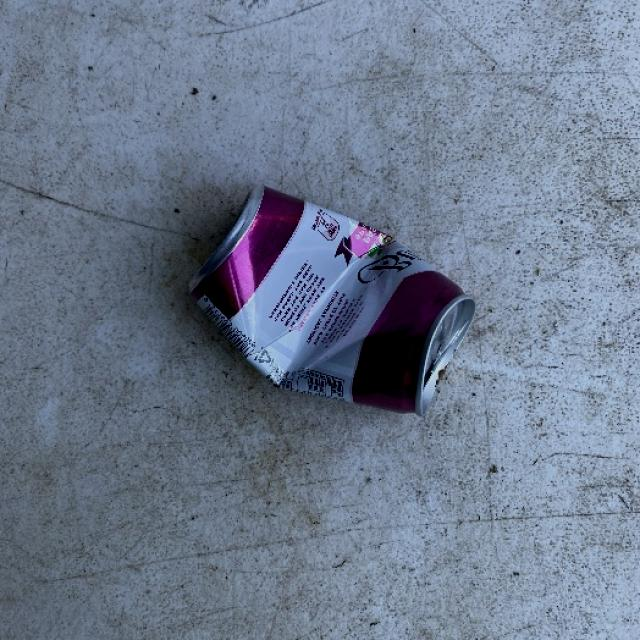kaleng: (177, 170, 506, 447), (348, 299, 474, 416)
